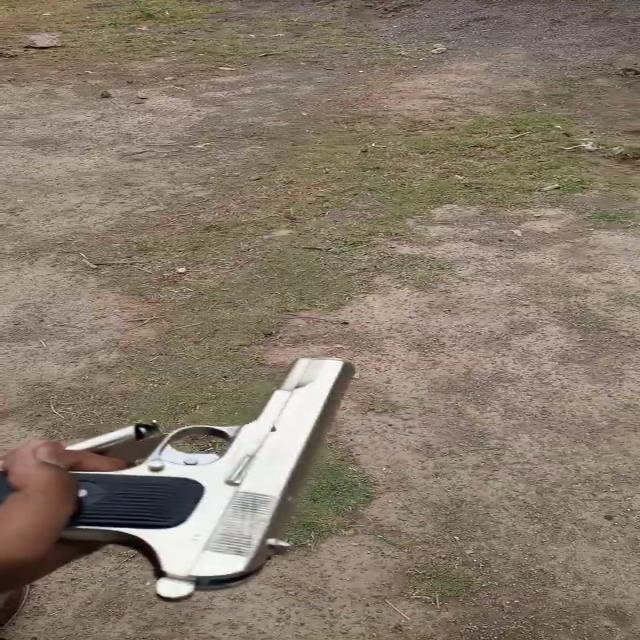Handgun: (0, 352, 362, 612)
